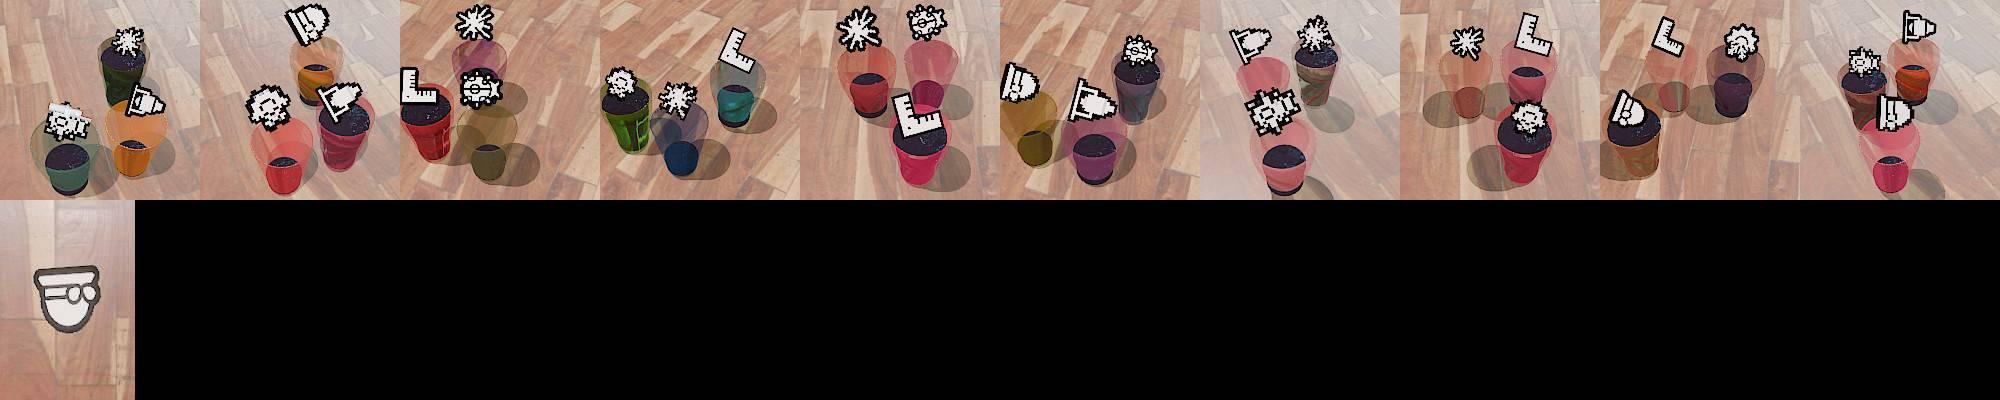icon: (33, 264, 104, 334), (1243, 85, 1301, 137), (890, 89, 945, 140), (1064, 76, 1118, 124), (244, 82, 292, 132), (835, 5, 883, 53), (315, 81, 364, 127), (1514, 11, 1557, 61), (284, 2, 330, 48), (43, 99, 92, 142), (459, 65, 504, 109), (717, 26, 758, 74), (656, 78, 700, 120), (1229, 25, 1273, 67), (999, 60, 1040, 104), (400, 65, 440, 109), (905, 3, 949, 43), (454, 3, 496, 43), (1650, 14, 1686, 59), (1119, 32, 1159, 71), (1875, 92, 1914, 132), (124, 84, 168, 117), (1722, 23, 1760, 61), (1510, 99, 1549, 136), (602, 65, 640, 101), (1847, 45, 1884, 79), (1449, 25, 1484, 60), (110, 26, 146, 60), (1296, 17, 1332, 51), (1612, 91, 1646, 126), (1902, 10, 1936, 43)
